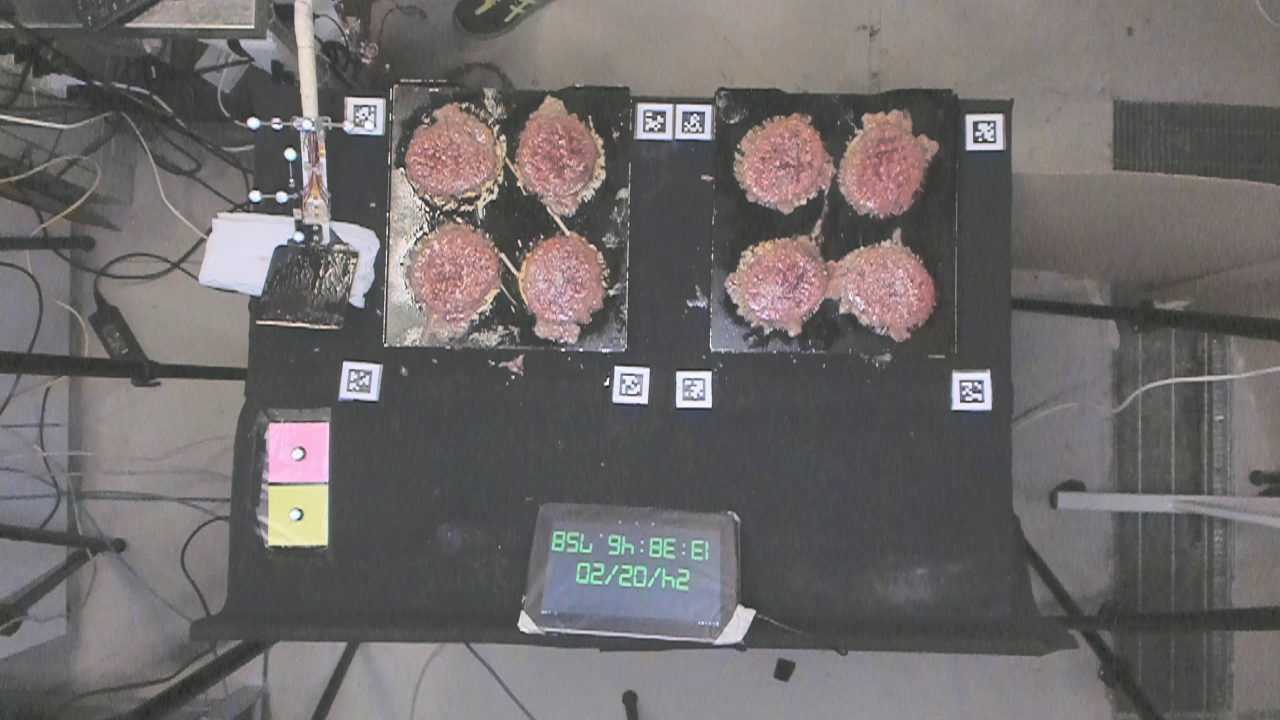hamburger: (850, 240, 940, 340), (840, 120, 934, 214), (405, 104, 498, 199), (405, 227, 501, 316), (519, 233, 608, 327), (740, 237, 831, 325), (739, 114, 824, 203), (517, 112, 598, 200)
marker: (262, 418, 333, 486)
